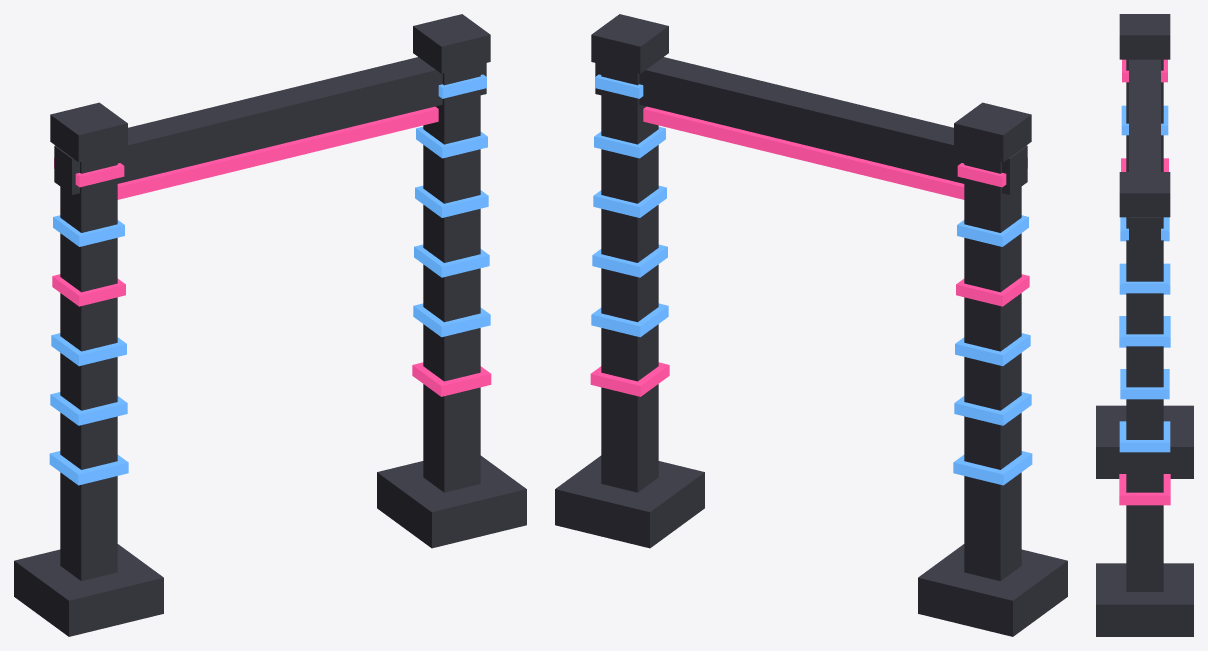
File: runtime.glb
3 renders of one model, left to right at view 1: azimuth 30°, elevation 25°; view 2: azimuth 150°, elevation 25°; view 3: azimuth 270°, elevation 25°, orthographic. The views are drawn at different scales.
Parts seen in each view (by area): view 1: neon_pylon_post_nocol, neon_pylon_band_blue_noshadow_nocol, neon_pylon_band_red_noshadow_nocol; view 2: neon_pylon_post_nocol, neon_pylon_band_blue_noshadow_nocol, neon_pylon_band_red_noshadow_nocol; view 3: neon_pylon_post_nocol, neon_pylon_band_blue_noshadow_nocol, neon_pylon_band_red_noshadow_nocol.
Part boxes in pixels (x1,y1,x2,y2): neon_pylon_post_nocol: (14,14,526,636); neon_pylon_band_blue_noshadow_nocol: (49,74,490,485); neon_pylon_band_red_noshadow_nocol: (52,106,491,396); neon_pylon_post_nocol: (555,14,1067,636); neon_pylon_band_blue_noshadow_nocol: (591,74,1032,485); neon_pylon_band_red_noshadow_nocol: (590,106,1029,396); neon_pylon_post_nocol: (1096,14,1193,636); neon_pylon_band_blue_noshadow_nocol: (1119,105,1170,452); neon_pylon_band_red_noshadow_nocol: (1119,59,1170,505).
Bounding box in the file's own units: 5.3 × 5.38 × 1.1.
